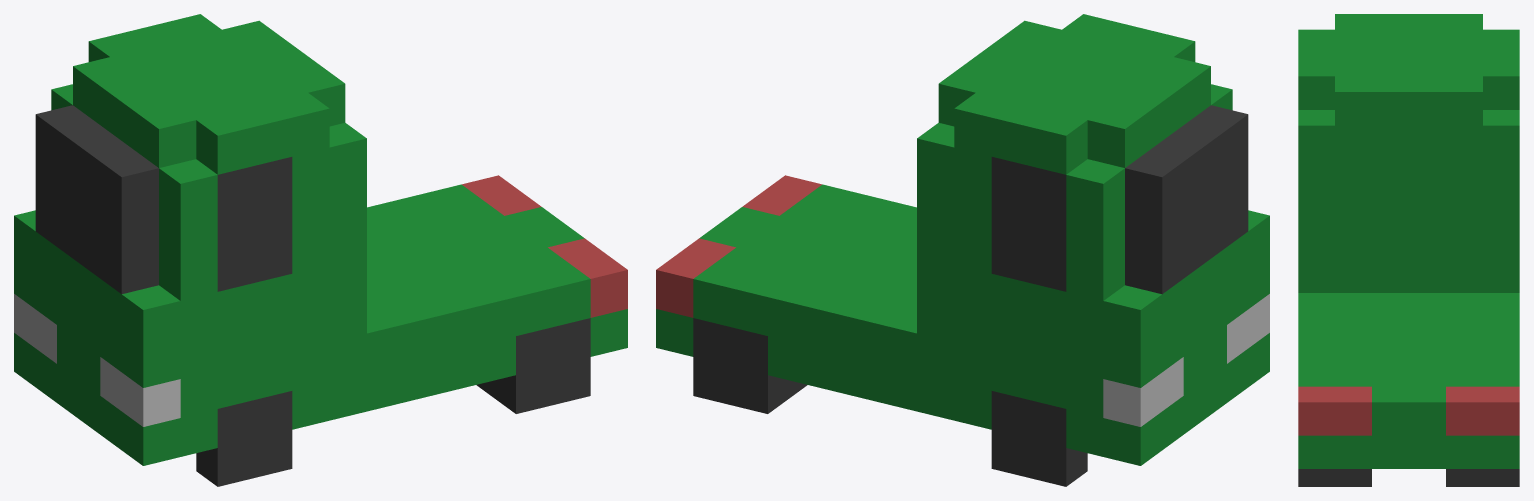
Rendered from truck-v2-green.gltf.
The picture shows the model from 3 angles, left to right: view 1: azimuth 30°, elevation 25°; view 2: azimuth 150°, elevation 25°; view 3: azimuth 270°, elevation 25°; orthographic projection. The views are drawn at different scales.
Parts seen in each view (by area): view 1: model, wheels; view 2: model, wheels; view 3: model, wheels.
Boxes of the visible parts, box(x1,y1,x2,y2) form: model: box(14, 14, 627, 465); wheels: box(196, 318, 590, 486); model: box(656, 14, 1269, 465); wheels: box(693, 318, 1087, 486); model: box(1298, 14, 1519, 468); wheels: box(1298, 469, 1519, 486).
Size of the model in its own units: 1.3 by 0.9 by 0.6.
2 materials, 2 textured.
